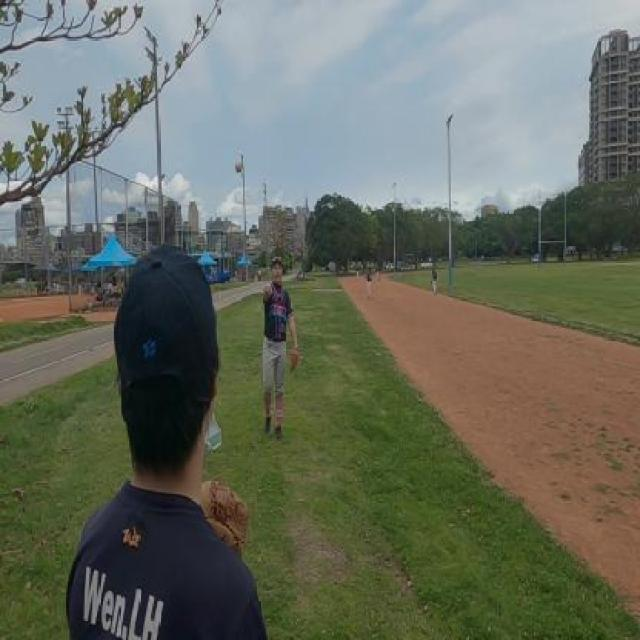baseball: (235, 160, 242, 172)
